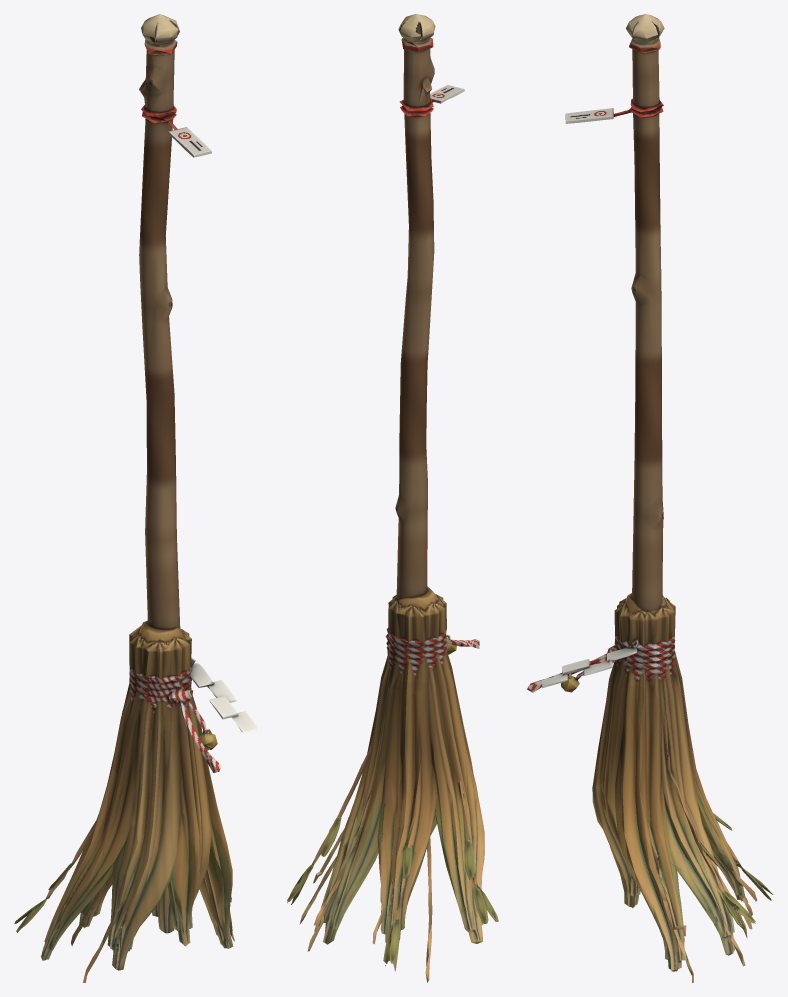
File: broom.glb
3 renders of one model, left to right at view 1: azimuth 30°, elevation 25°; view 2: azimuth 150°, elevation 25°; view 3: azimuth 270°, elevation 25°, orthographic. The views are drawn at different scales.
Visible parts, largest first — view 1: broom_LOD0; view 2: broom_LOD0; view 3: broom_LOD0.
Part boxes in pixels (x1,y1,x2,y2): broom_LOD0: (14,14,258,982); broom_LOD0: (287,14,498,982); broom_LOD0: (527,14,773,982).
Size of what is drawn, in the model's own units: 0.3463 by 1.5 by 0.3631.
Materials: 5 (5 with a texture image).
